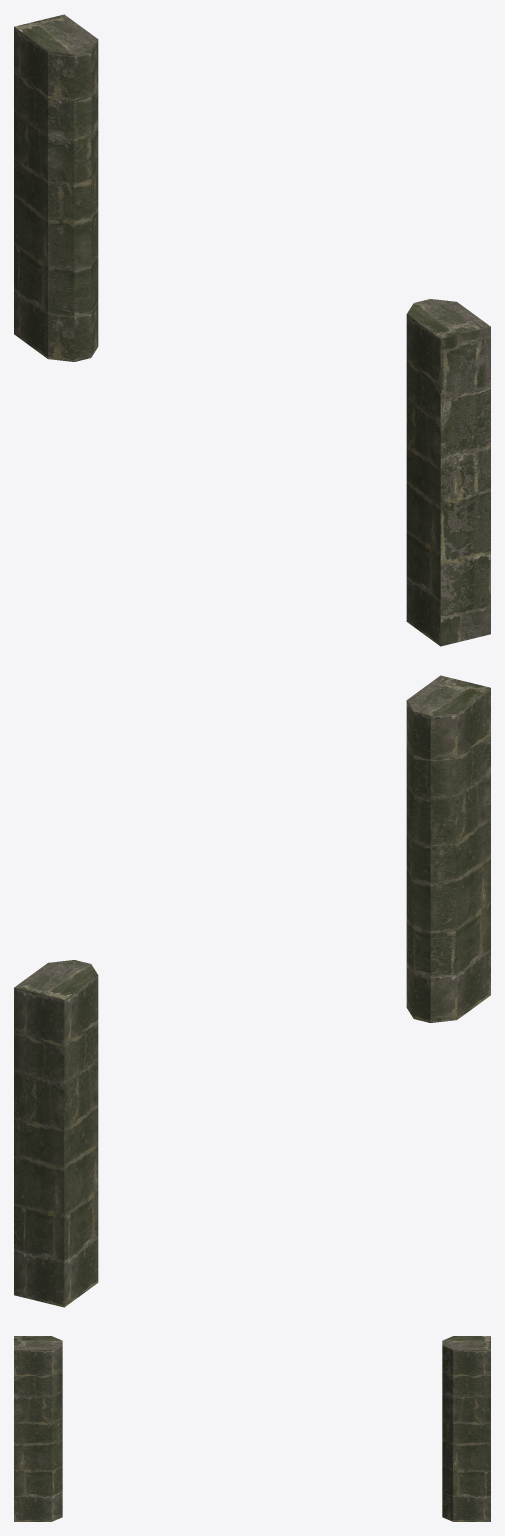
The model's file is HorizontalHalfWall_DoubleArchway_Pier.fbx.
3 views of the same model, one above another, from view 1: azimuth 30°, elevation 25°; view 2: azimuth 150°, elevation 25°; view 3: azimuth 270°, elevation 25° (orthographic). The views are drawn at different scales.
Visible parts, largest first — view 1: DoubleDoorway.011; view 2: DoubleDoorway.011; view 3: DoubleDoorway.011.
Boxes of the visible parts, box(x1,y1,x2,y2) form: DoubleDoorway.011: box(14, 14, 490, 646); DoubleDoorway.011: box(14, 675, 490, 1307); DoubleDoorway.011: box(14, 1336, 490, 1521).
Bounding box in the file's own units: 51 × 298 × 748.
